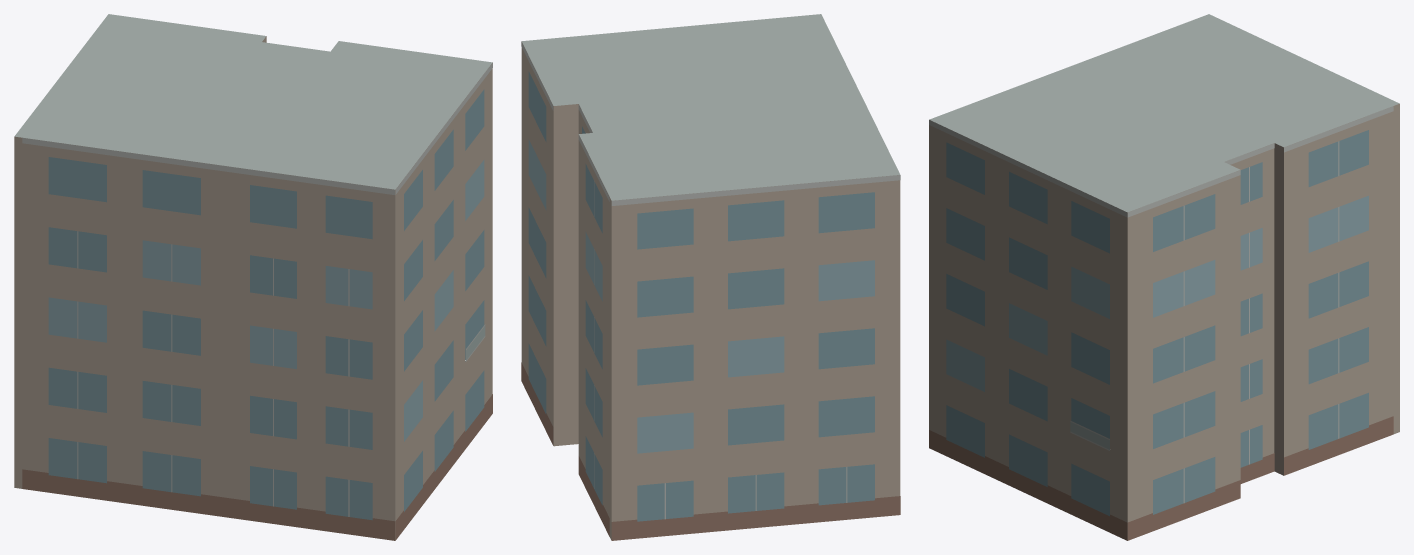
The model's file is survey-upis-33004737.glb.
3 views of the same model, side by side, from view 1: azimuth 30°, elevation 25°; view 2: azimuth 150°, elevation 25°; view 3: azimuth 270°, elevation 25° (orthographic). The views are drawn at different scales.
Visible parts, largest first — view 1: survey-upis-33004737.tmp; view 2: survey-upis-33004737.tmp; view 3: survey-upis-33004737.tmp.
Boxes of the visible parts, x1=… form: survey-upis-33004737.tmp: x1=14, y1=14, x2=492, y2=540; survey-upis-33004737.tmp: x1=521, y1=14, x2=900, y2=540; survey-upis-33004737.tmp: x1=929, y1=14, x2=1399, y2=540.
Size of the model in its own units: 19.77 by 15.25 by 19.82.
